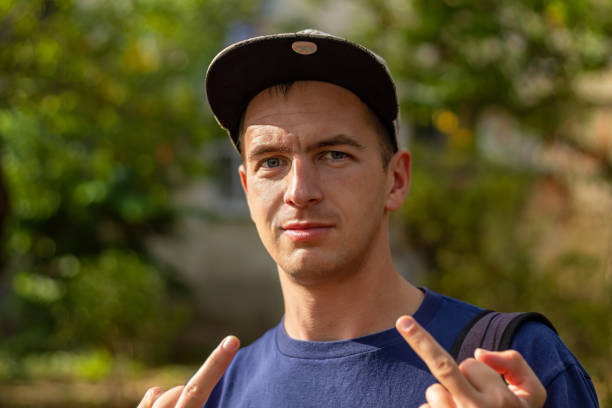insulting_gesture: (394, 314, 547, 408), (134, 334, 242, 408)
